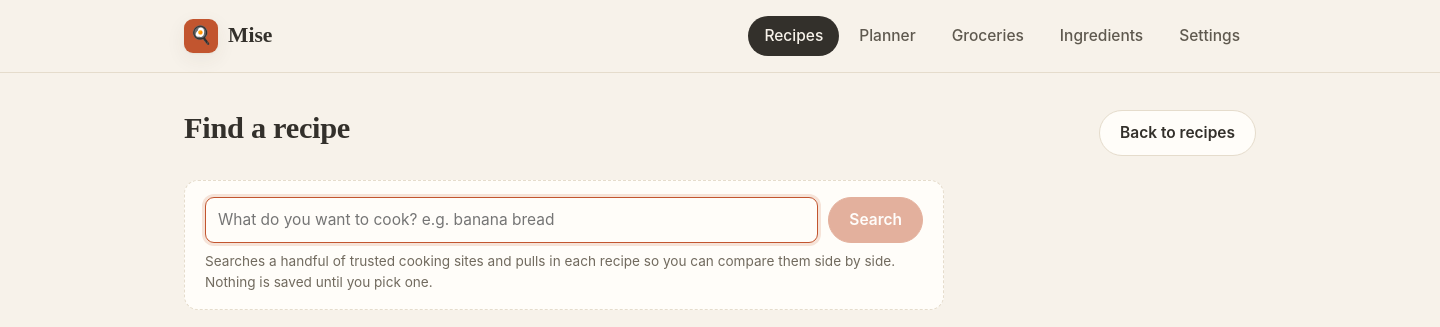
Test: RecipeSearchPage › will not search on a query too short to mean anything
Check: the button "Search" is disabled, box x1=828 y1=197 x2=923 y2=243
Type "b" into the field with placeholder "What do you want to cook? e.g. banana bread" at {"x": 512, "y": 220}, box x1=205 y1=197 x2=818 y2=243
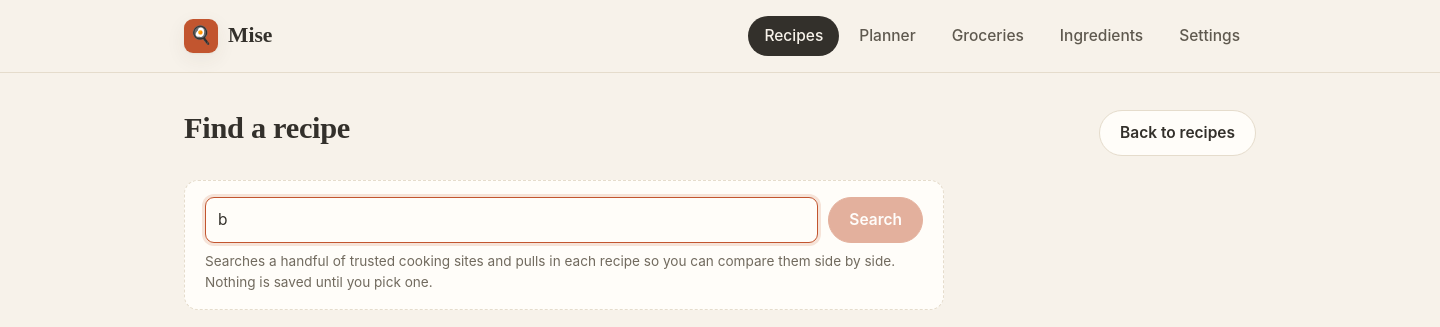
Check: the button "Search" is disabled, box x1=828 y1=197 x2=923 y2=243
Type "read" into the field with placeholder "What do you want to cook? e.g. banana bread" at {"x": 512, "y": 220}, box x1=205 y1=197 x2=818 y2=243
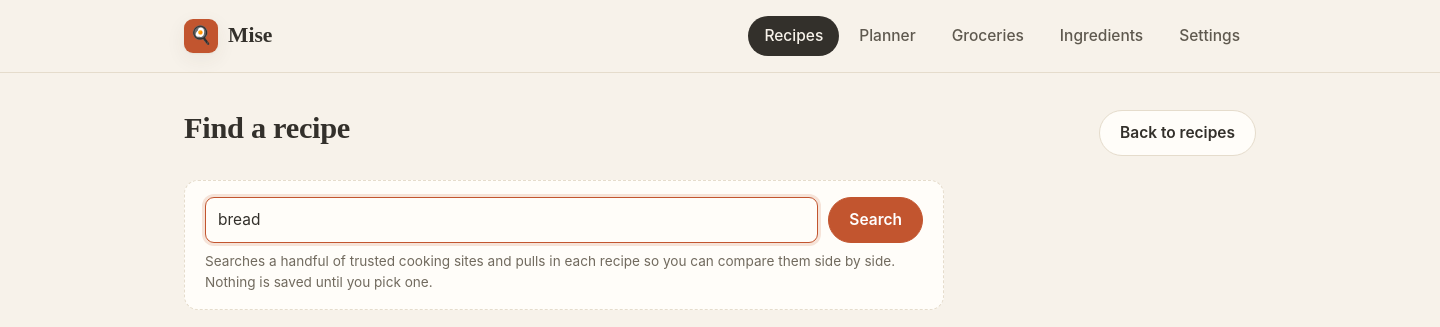
Check: the button "Search" is enabled, box x1=828 y1=197 x2=923 y2=243
